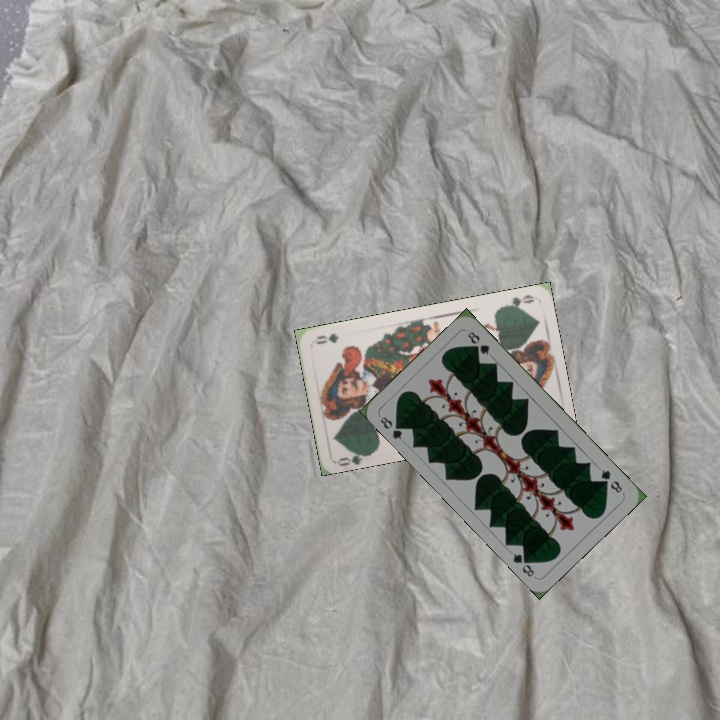G8: (376, 412, 407, 443), (596, 465, 625, 496)
GO: (334, 446, 374, 468), (497, 291, 537, 311)
